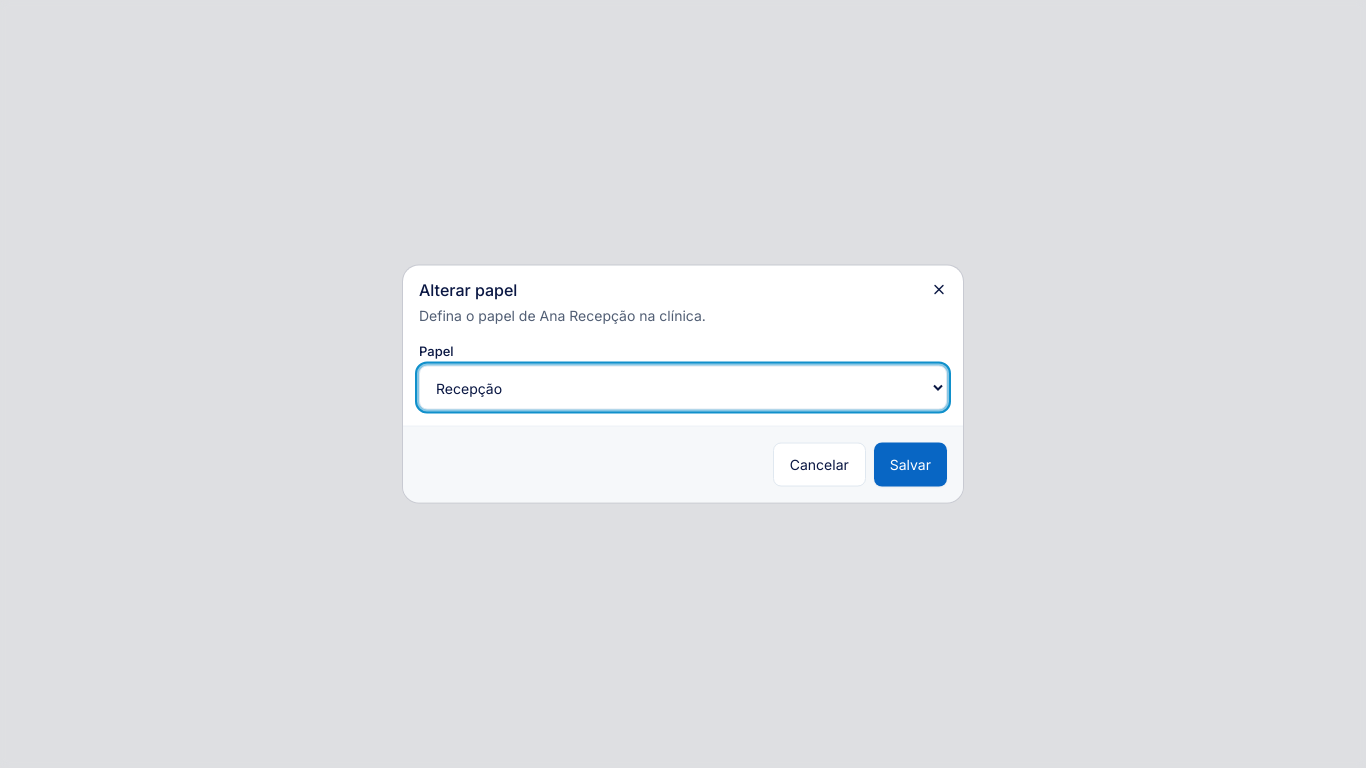
EditarPapelModal › barra promoção a dentista sem CRO
Select "Dentista" in the dropdown labelled "Papel" at (683, 388), box [419,366,947,410]
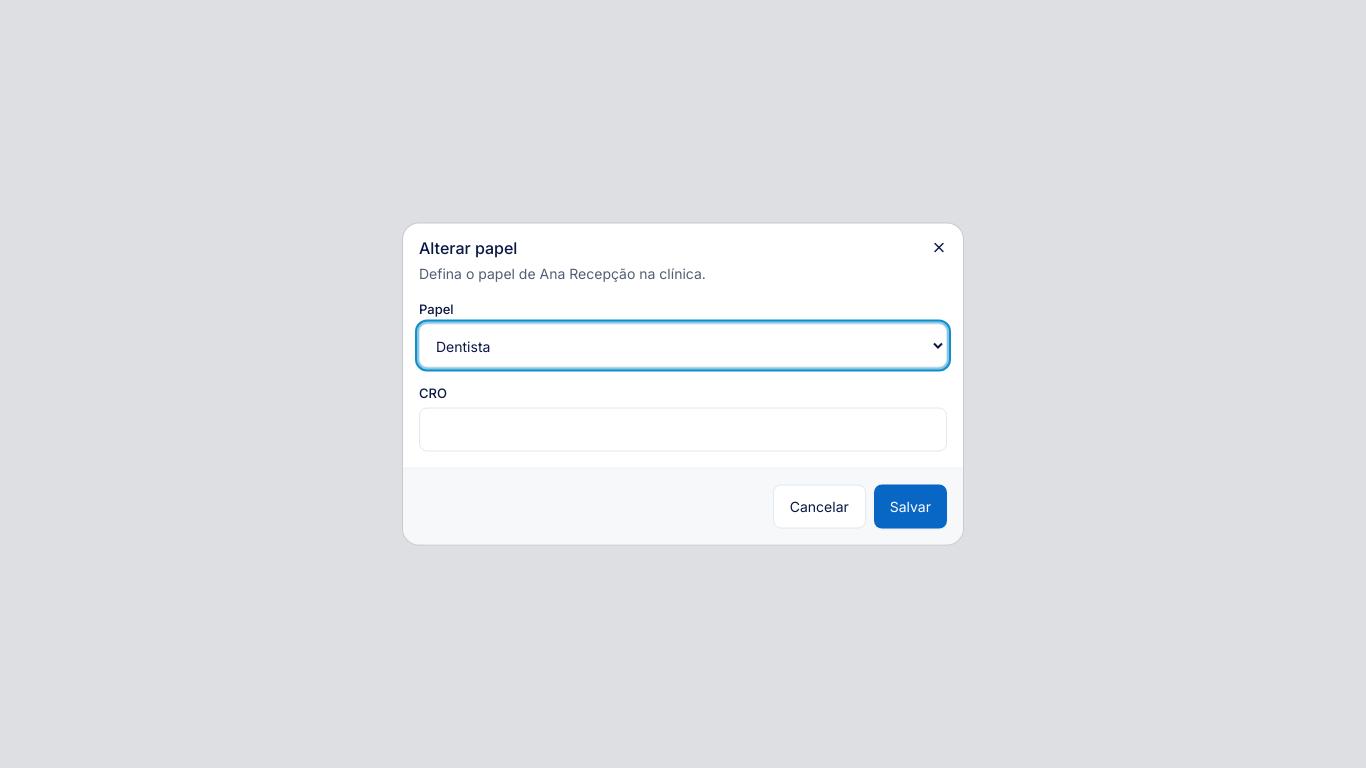
Click the button "Salvar" at (910, 506), box [874,484,947,528]
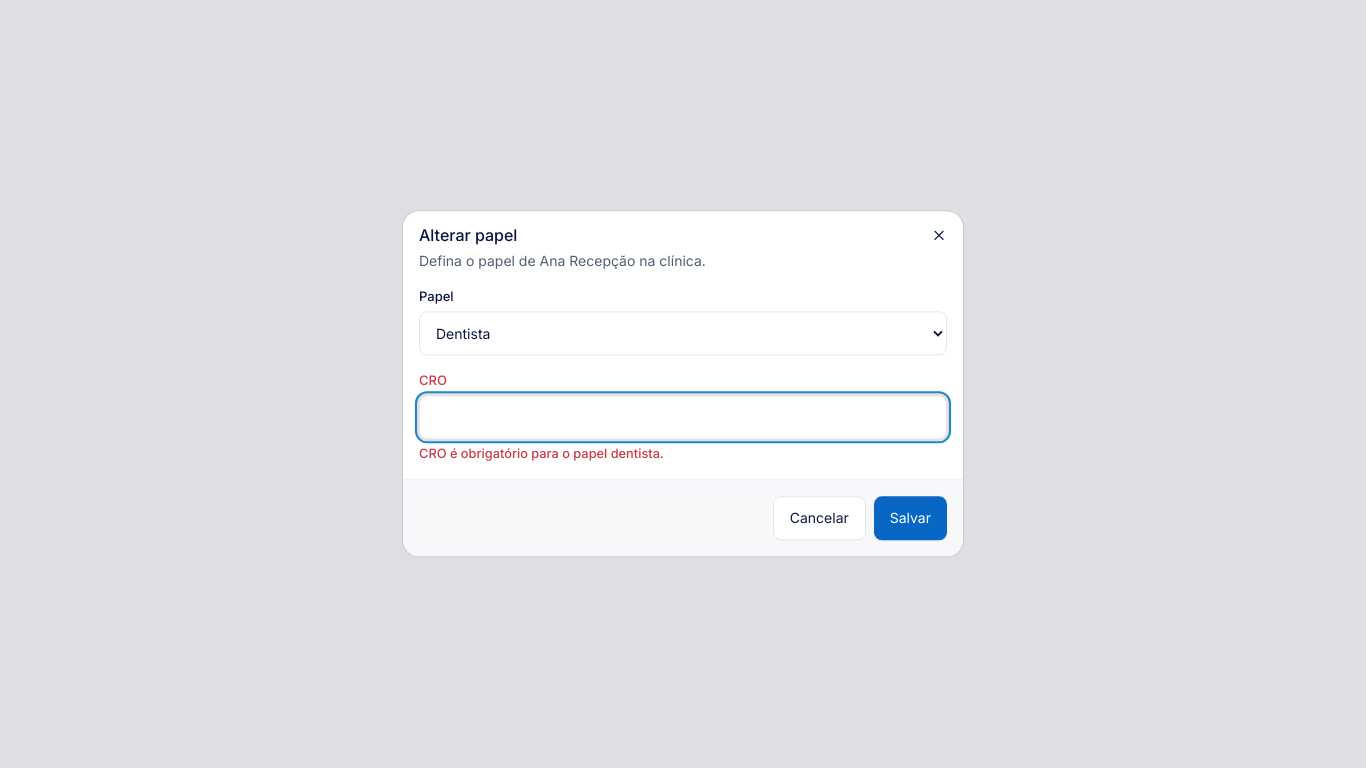
Check: the text "CRO é obrigatório para o papel dentista." is shown, box [419,446,664,461]
